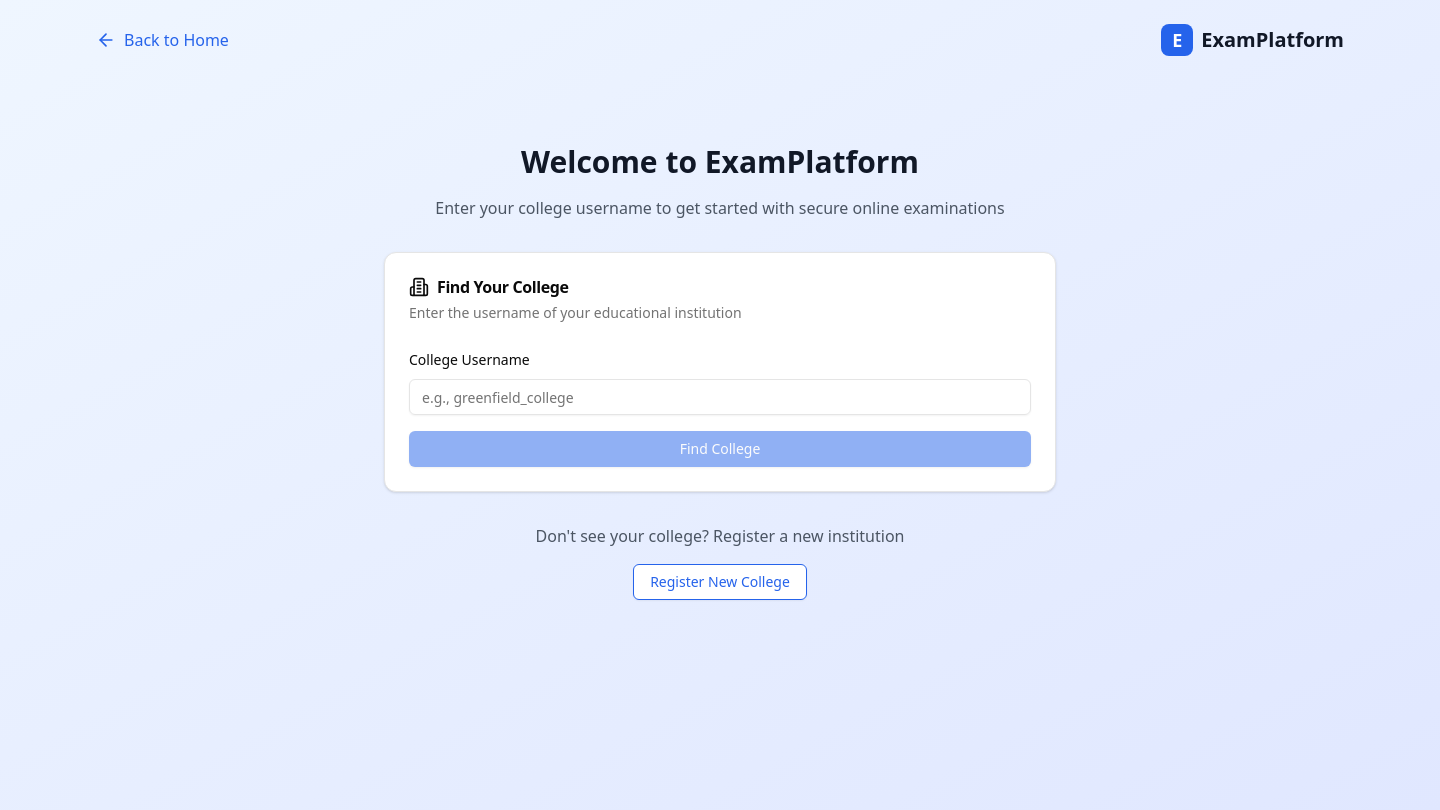
CollegeSelectionPage › College Search › should display college information when found
Type "testcollege" into the field labelled "College Username" at (720, 397), box [409,379,1031,415]
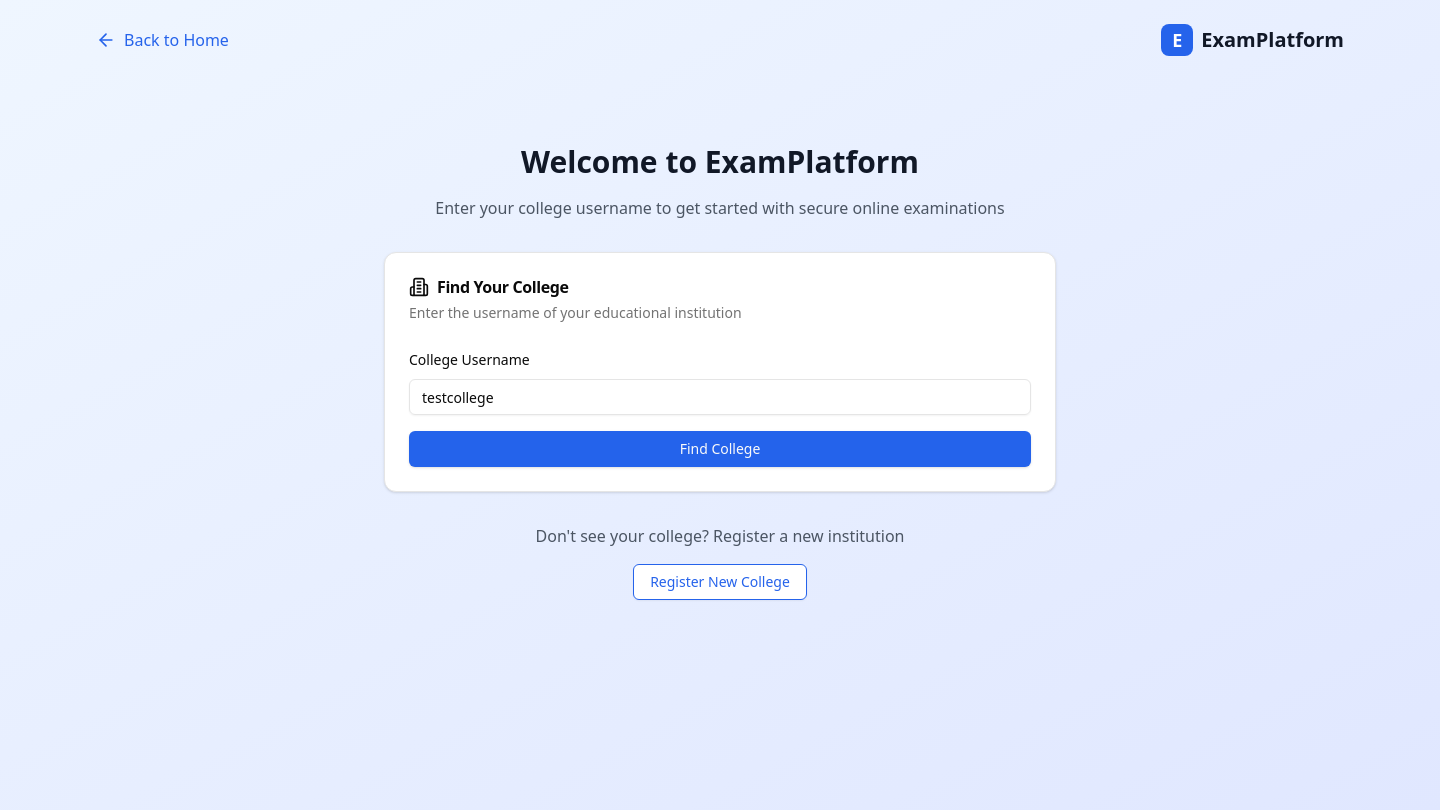
Click the button "Find College" at (720, 449), box [409,431,1031,467]
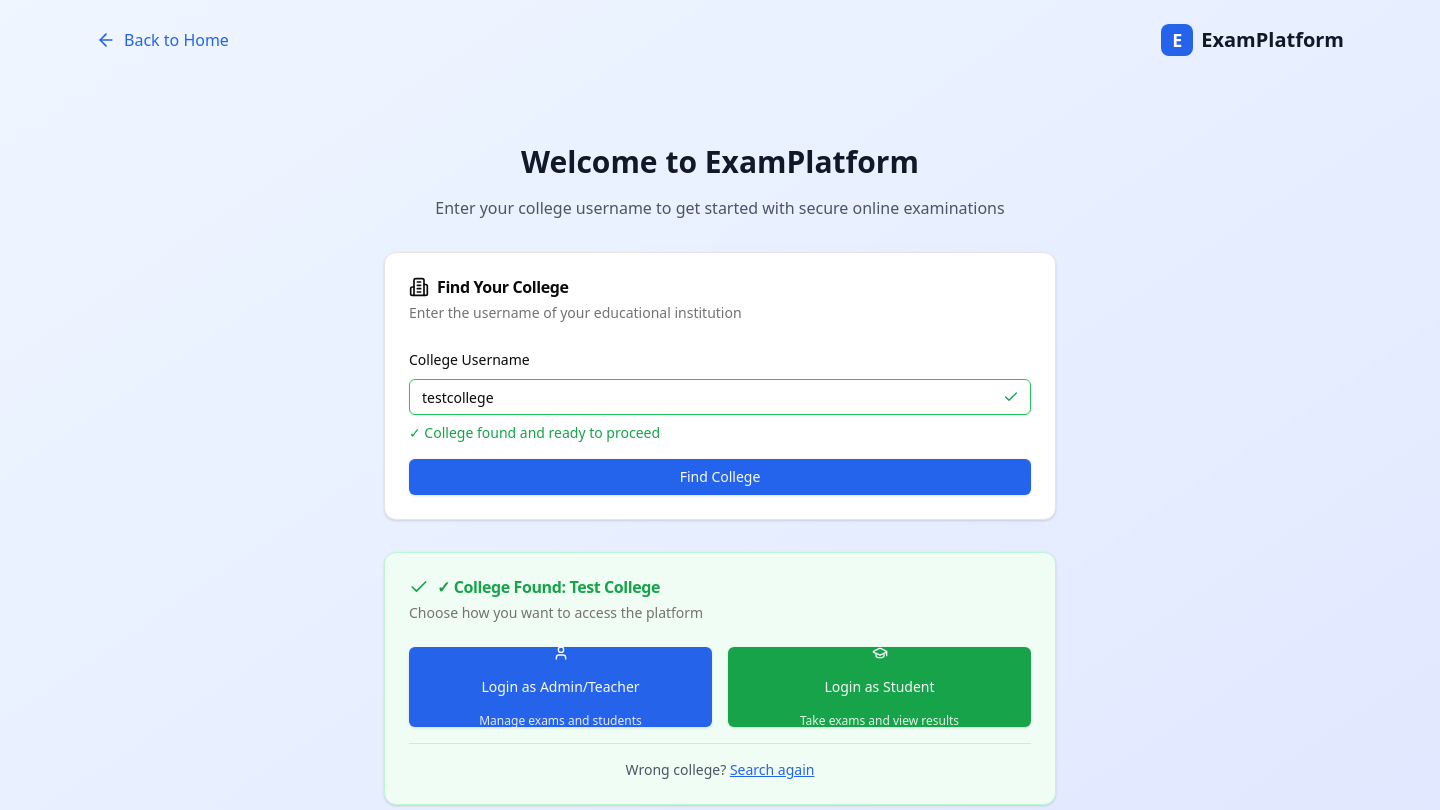
Expected: the text "✓ College Found: Test College" is shown, [437,579,660,595]
Expected: the text "Choose how you want to access the platform" is shown, [409,603,703,622]
